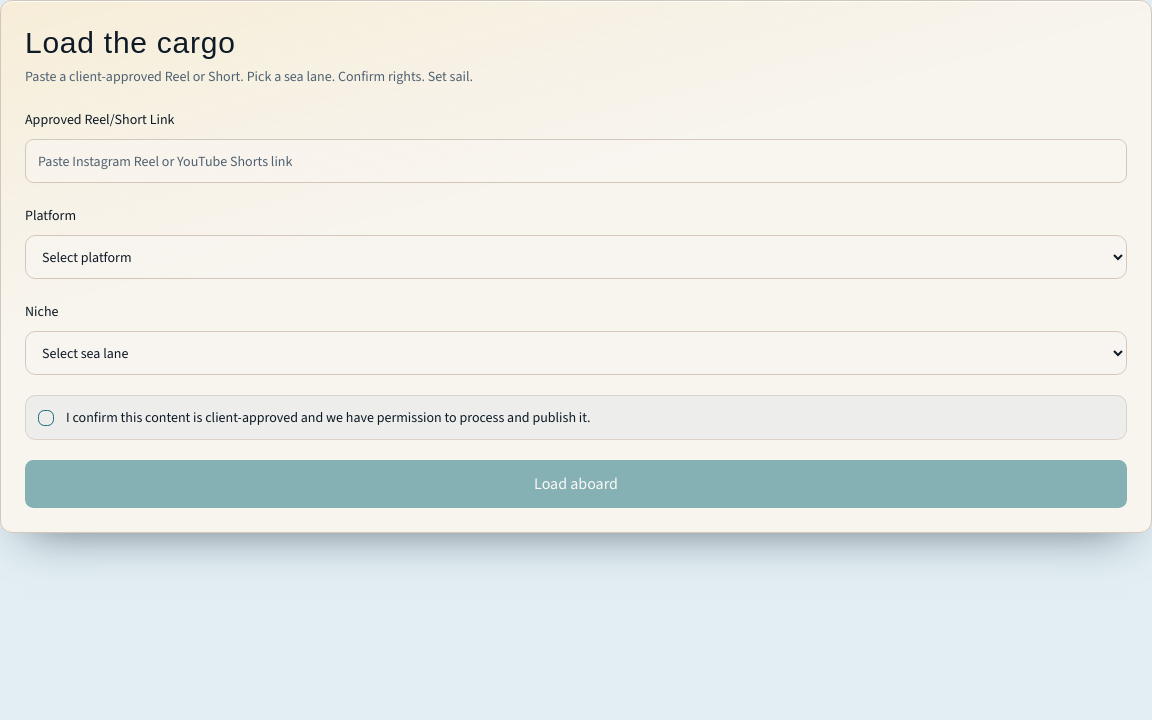
Scenario: SubmitForm › shows error message and keeps URL value on failure
Type "https://www.youtube.com/shorts/abc" into the field labelled "Approved Reel/Short Link" at (576, 161), box [25,139,1127,183]
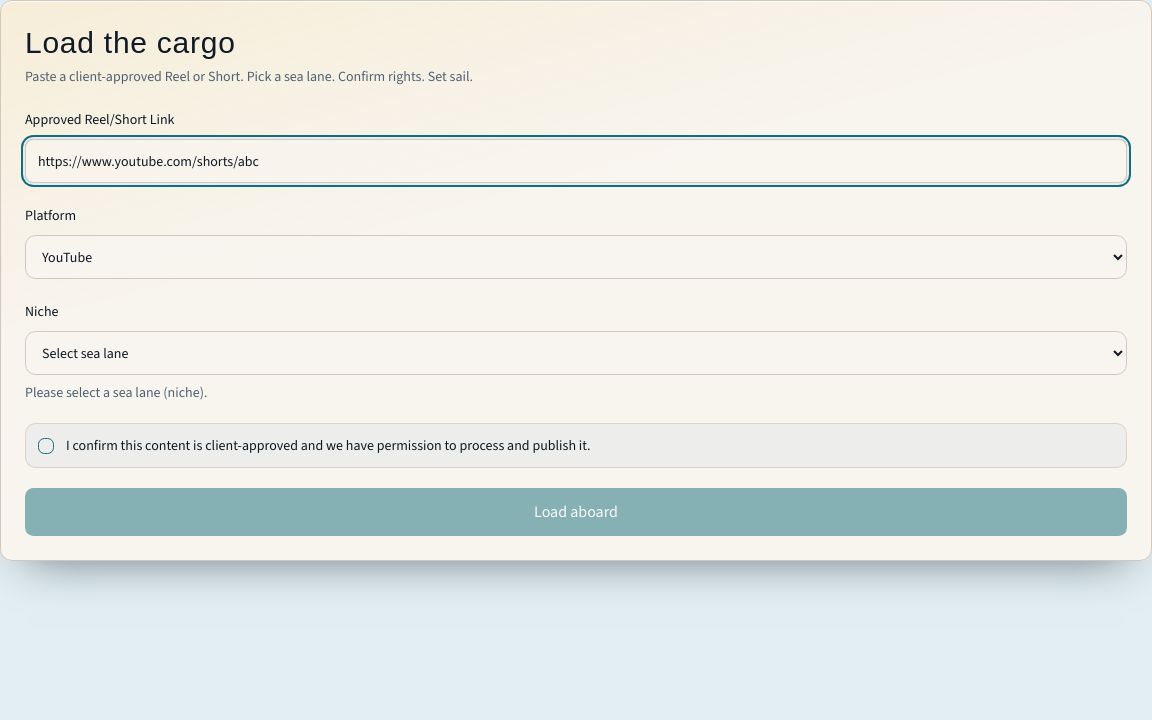
Select "Memes" in the dropdown labelled "Niche" at (576, 353), box [25,331,1127,375]
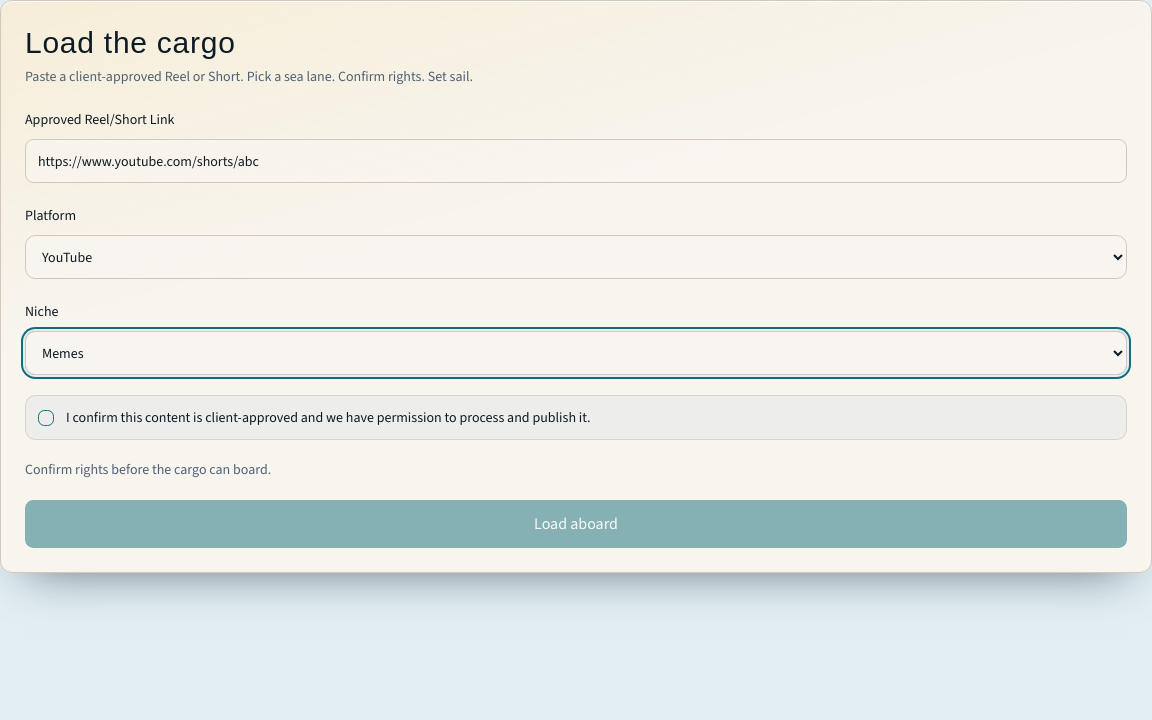
Click the checkbox named "I confirm this content is client-approved and we have permission to process and publish it." at (46, 418), box [38,410,54,426]
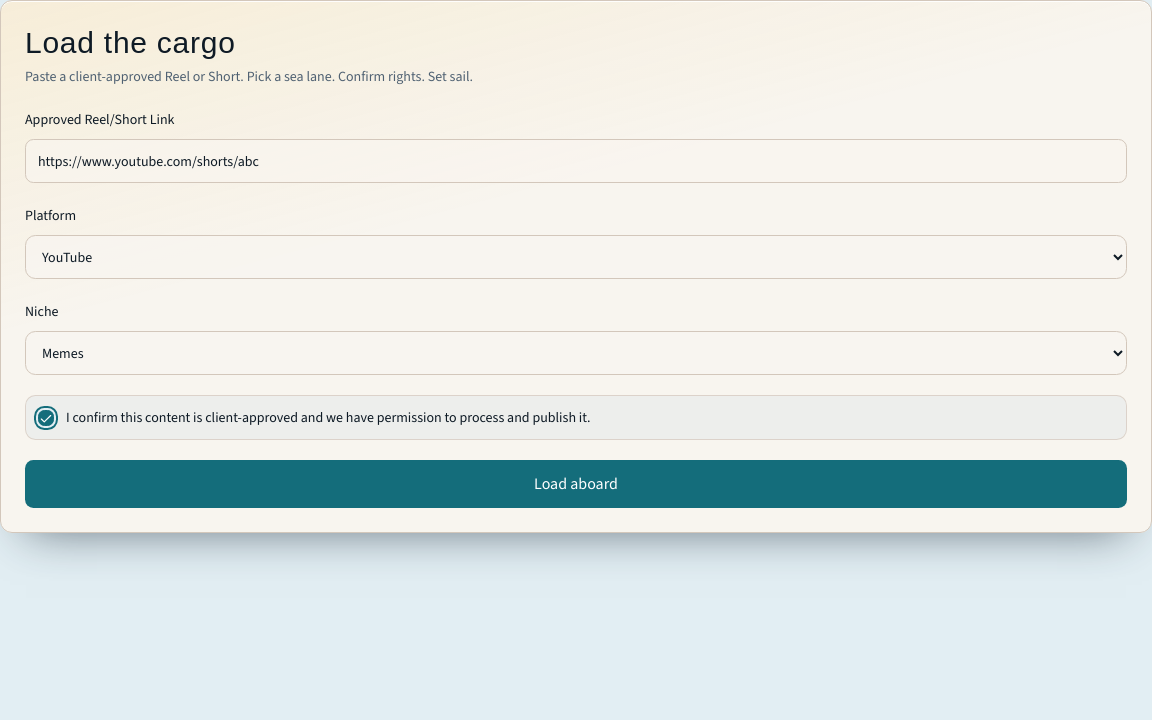
Click the button "Load aboard" at (576, 484), box [25,460,1127,508]
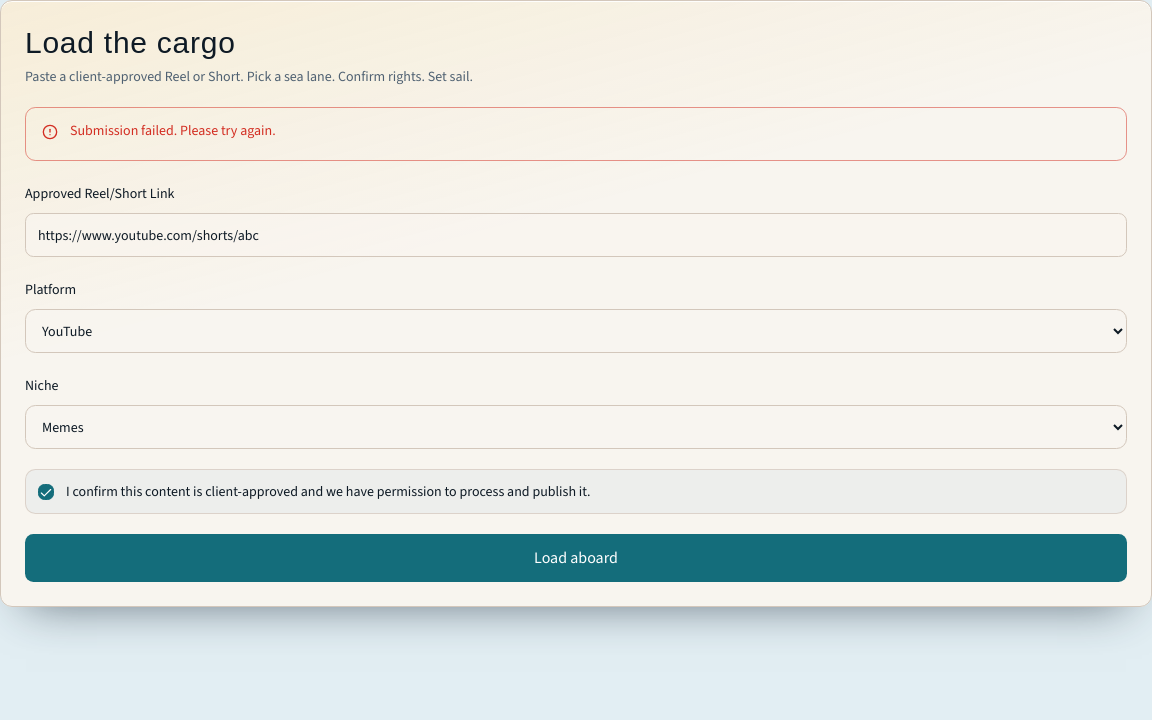
Result: the text "Submission failed. Please try again." is shown at [70,121,276,140]
